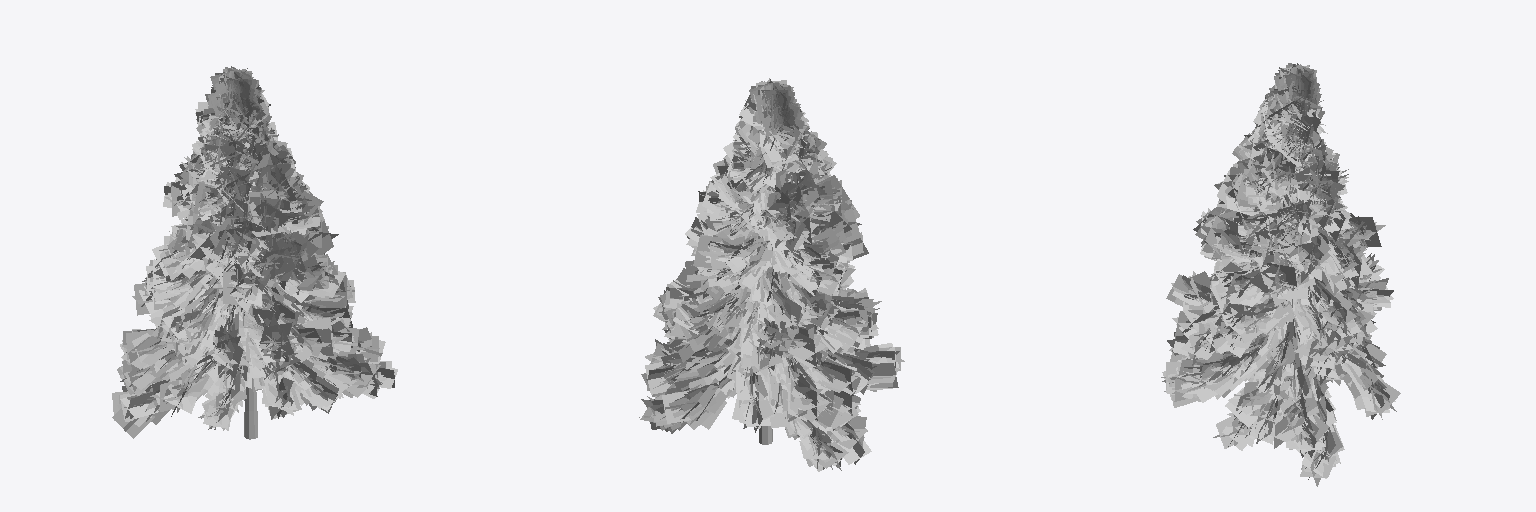
Rendered from tree_5.obj.
3 views of the same model, side by side, from view 1: azimuth 30°, elevation 25°; view 2: azimuth 150°, elevation 25°; view 3: azimuth 270°, elevation 25° (orthographic).
Parts seen in each view (by area): view 1: Mesh_1.005, Mesh_0.005; view 2: Mesh_1.005; view 3: Mesh_1.005.
Part boxes in pixels (x1,y1,x2,y2): Mesh_1.005: (112, 66, 397, 438); Mesh_0.005: (211, 310, 301, 439); Mesh_1.005: (639, 78, 904, 471); Mesh_1.005: (1161, 63, 1400, 486).
Bounding box in the file's own units: 48.76 × 71.12 × 42.45.